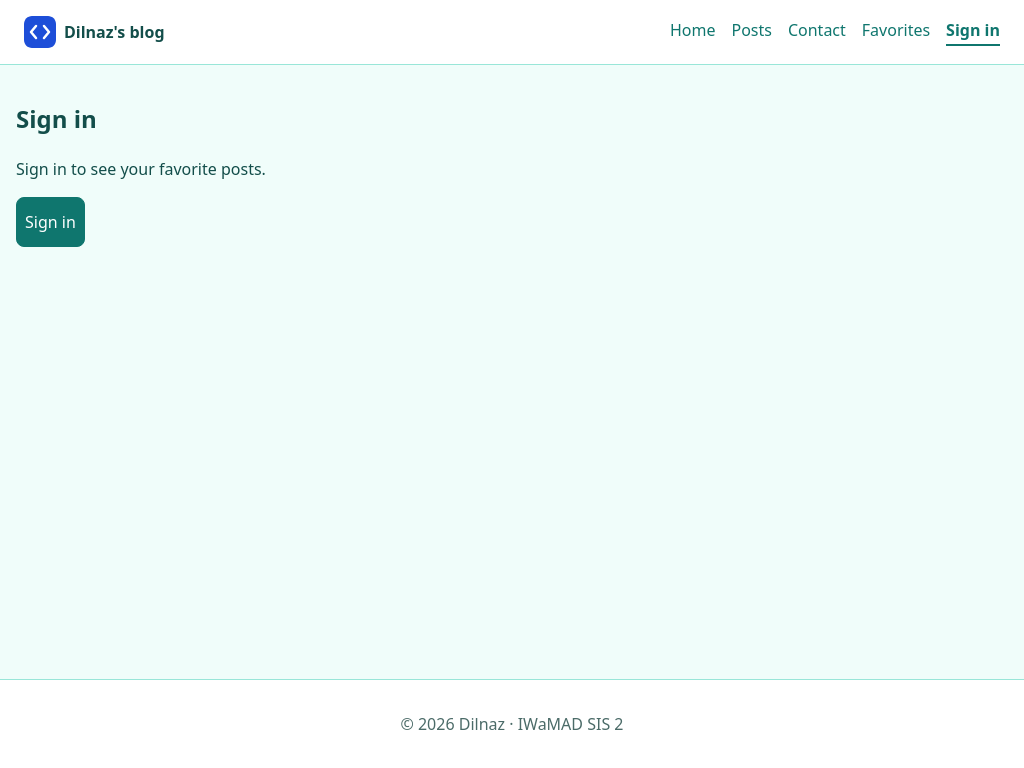
Blog app › protects /favorites until the reader signs in
Expected: the heading "Sign in" is shown, [16,102,97,135]
Click the button "Sign in". click: coordinates (50, 222)
box: [16,197,85,247]
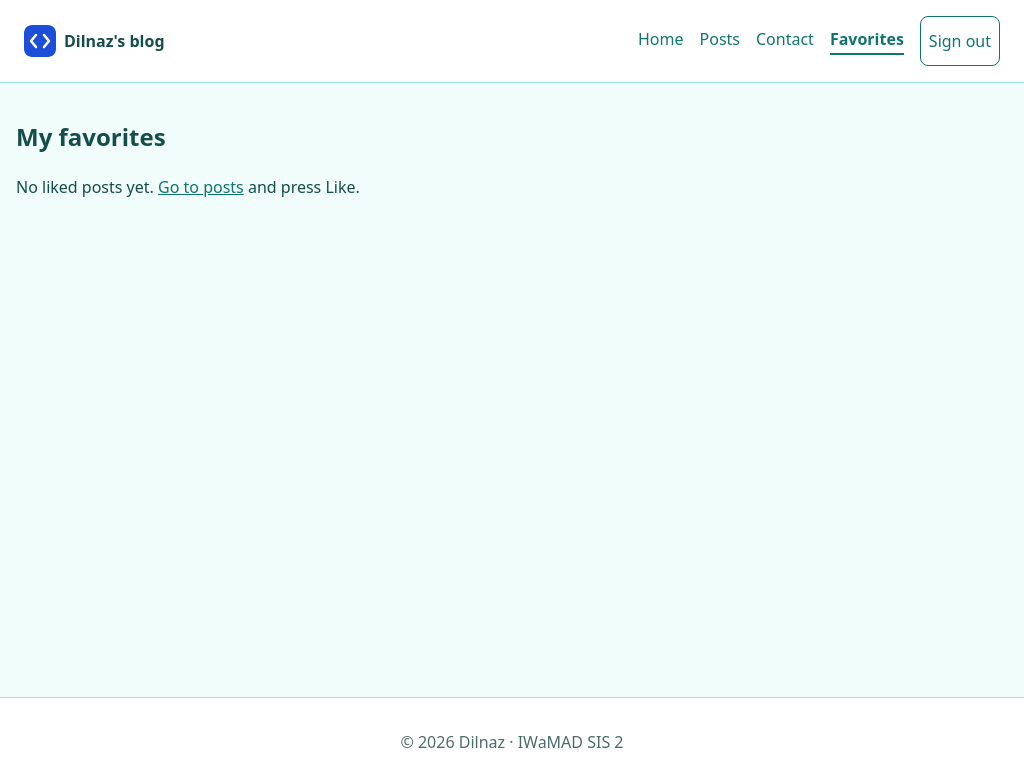
Expected: the heading "My favorites" is shown, [16,120,166,153]
Click the button "Sign out". click: coordinates (960, 41)
box: [920,16,1000,66]
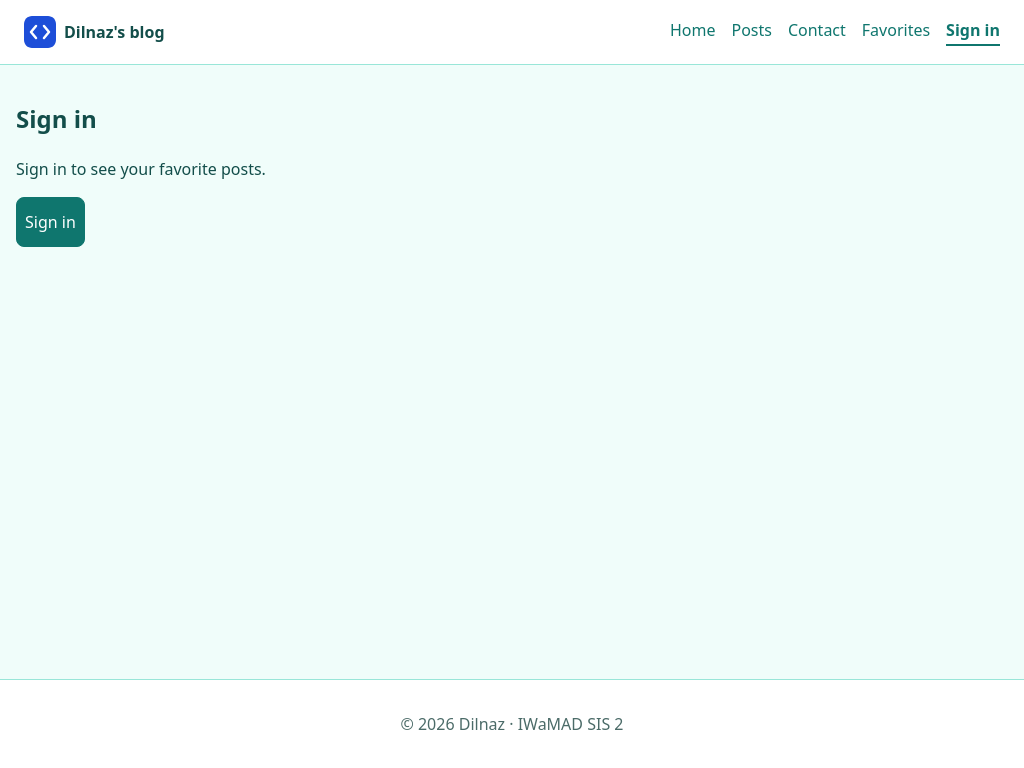
Expected: the heading "Sign in" is shown, [16,102,97,135]
